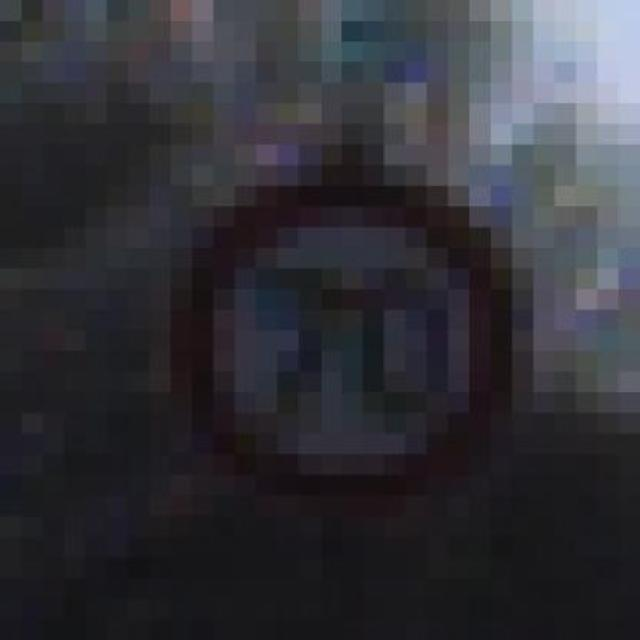forb_speed_over_70: (179, 170, 515, 488)
